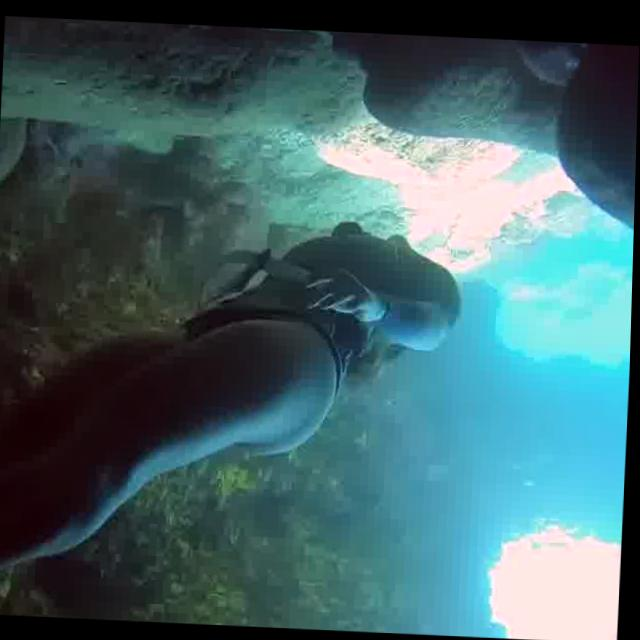human: (0, 191, 478, 632)
